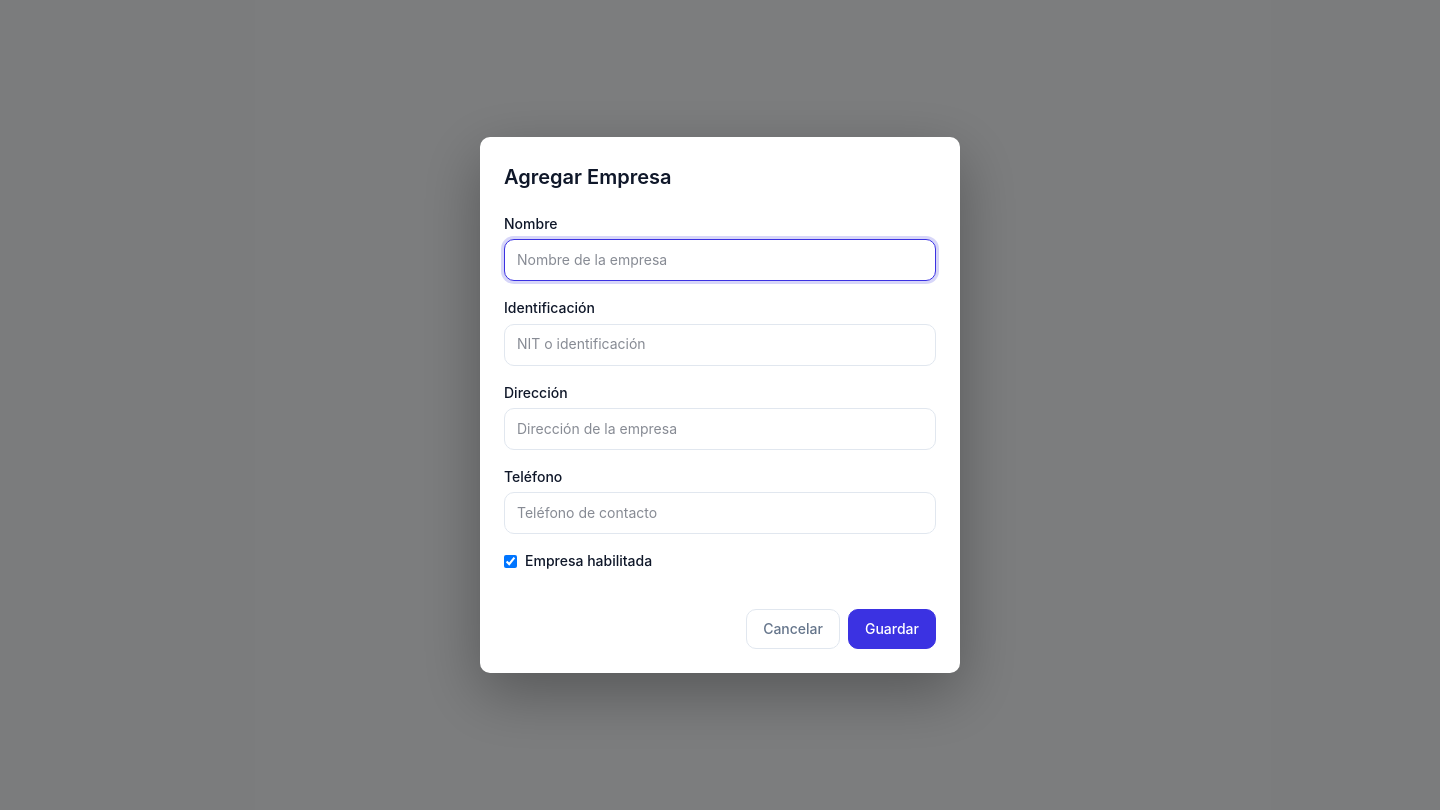
Test case: EmpresaFormModal › Estado de envío › Save button shows "Guardando..." and is disabled during submit
Type "Empresa Valid" into the field labelled "Nombre" at (720, 260), box [504,239,936,281]
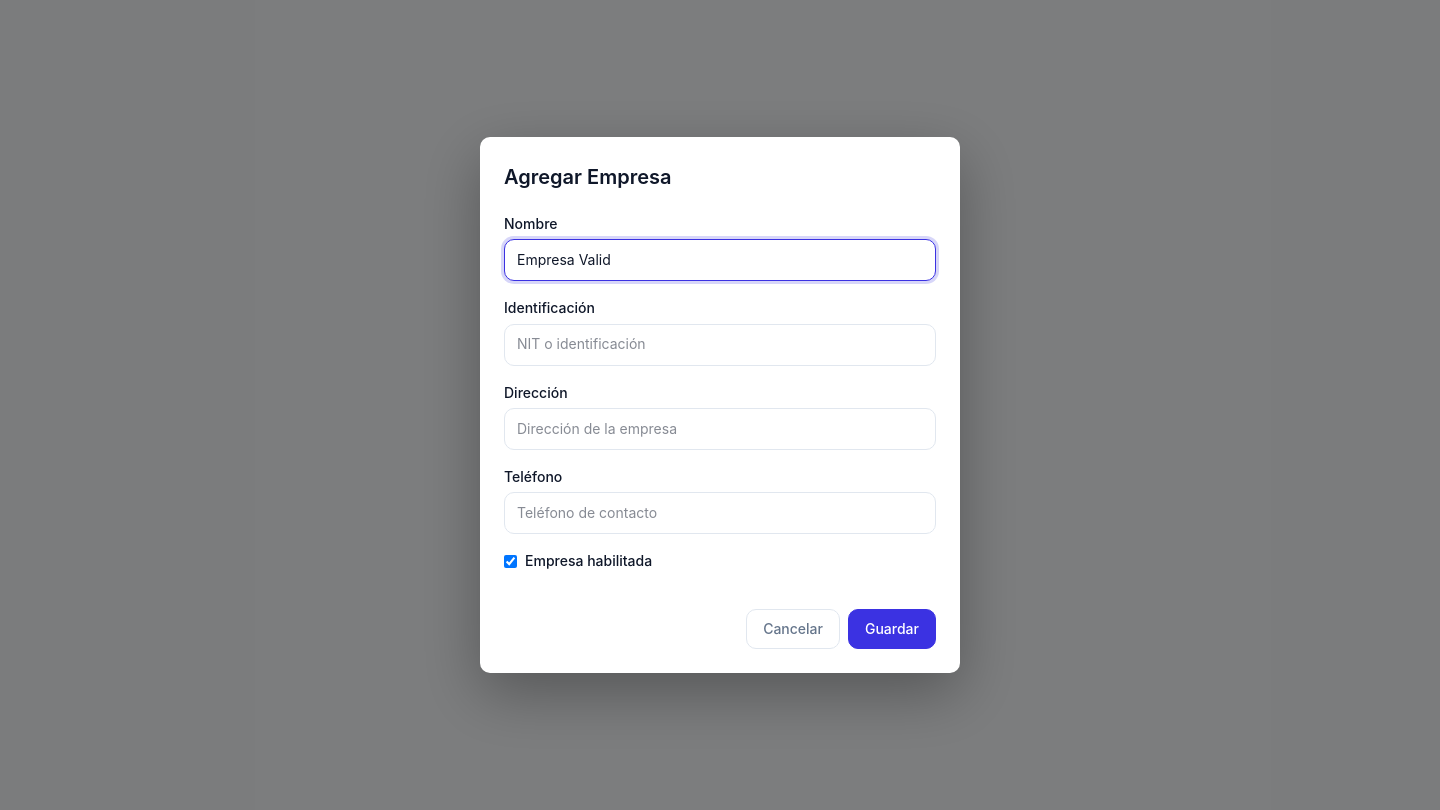
Type "NIT-123456" into the field labelled "Identificación" at (720, 345), box [504,324,936,366]
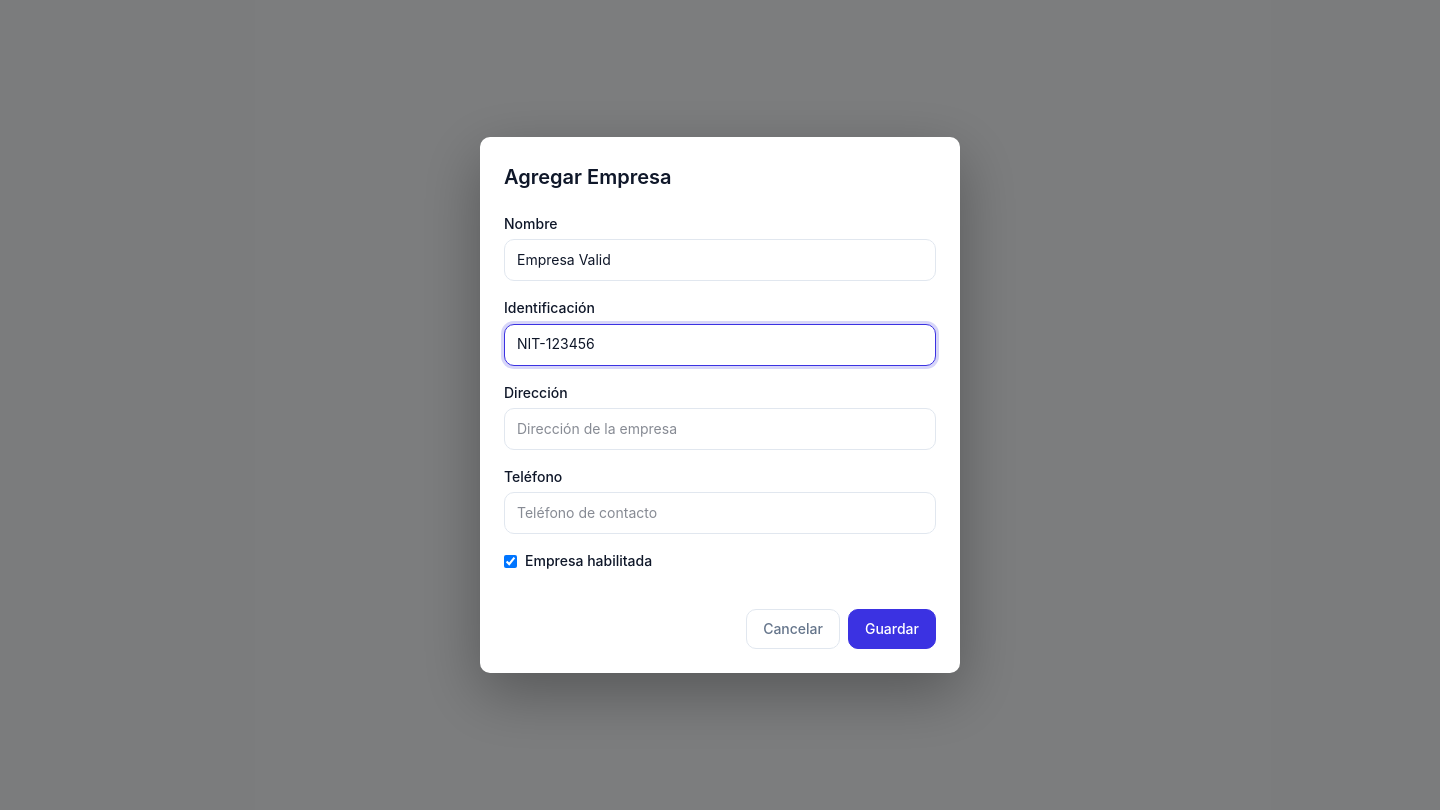
Type "Dirección Válida 123" into the field labelled "Dirección" at (720, 429), box [504,408,936,450]
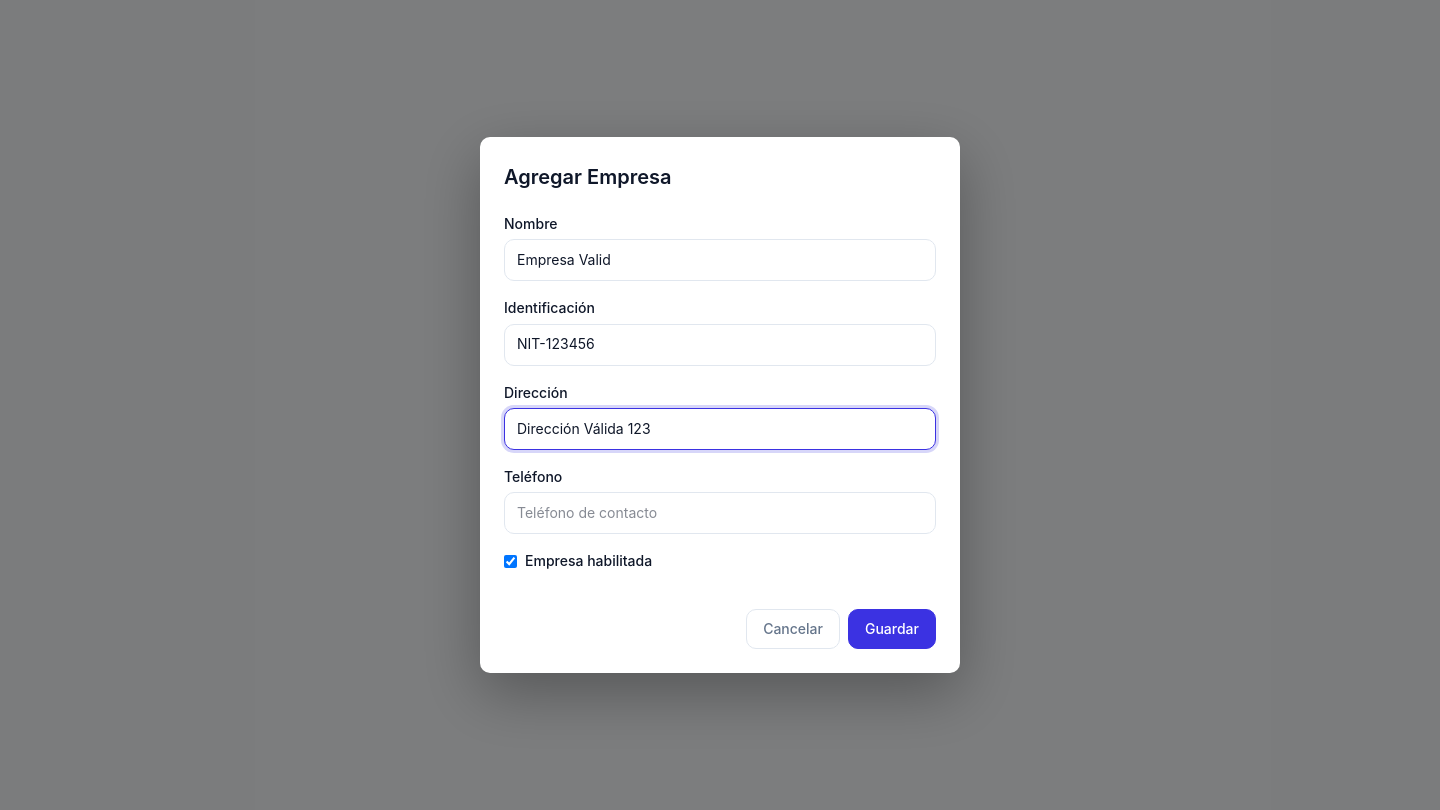
Type "1234567" into the field labelled "Teléfono" at (720, 513), box [504,492,936,534]
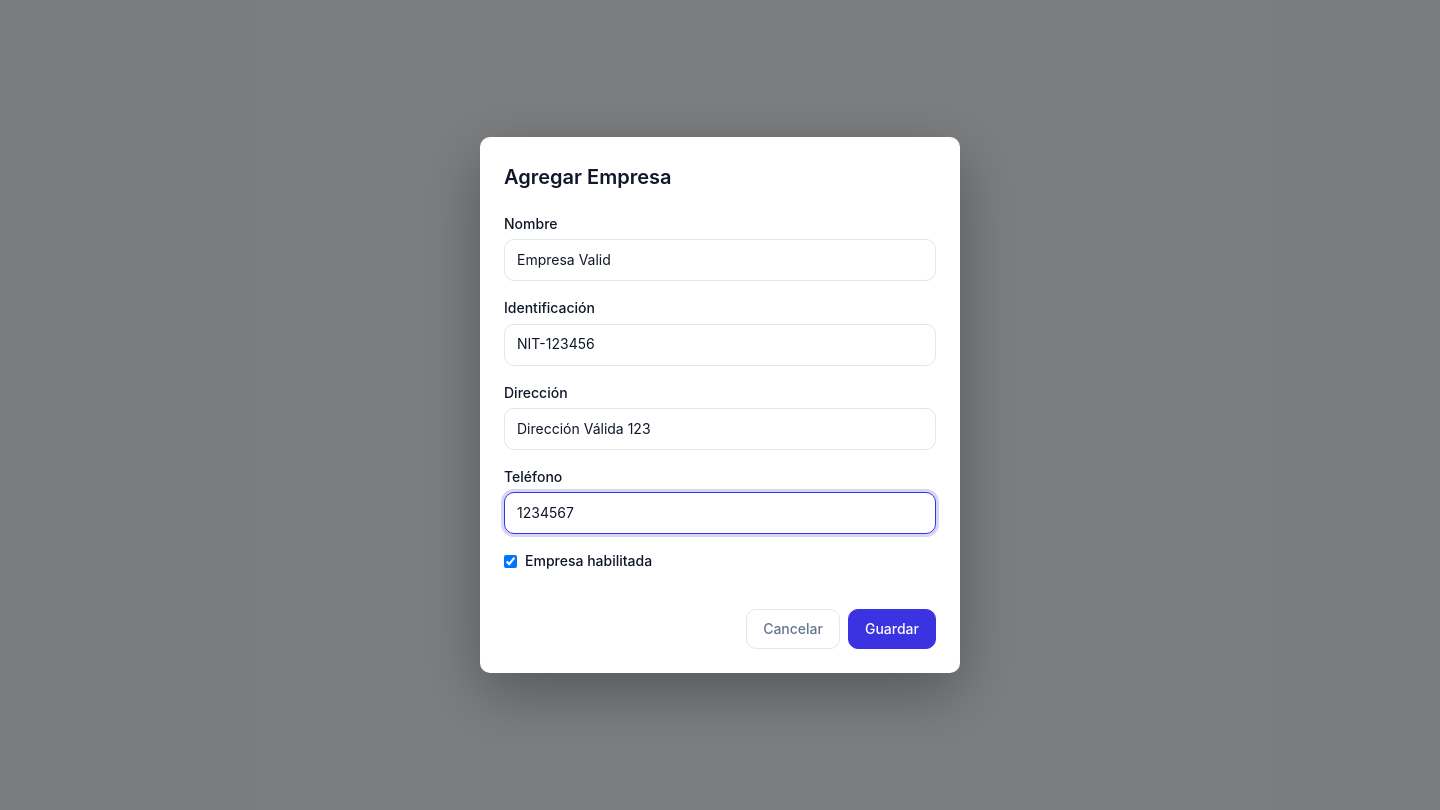
Click the button "Guardar" at (892, 629), box [848,609,936,649]
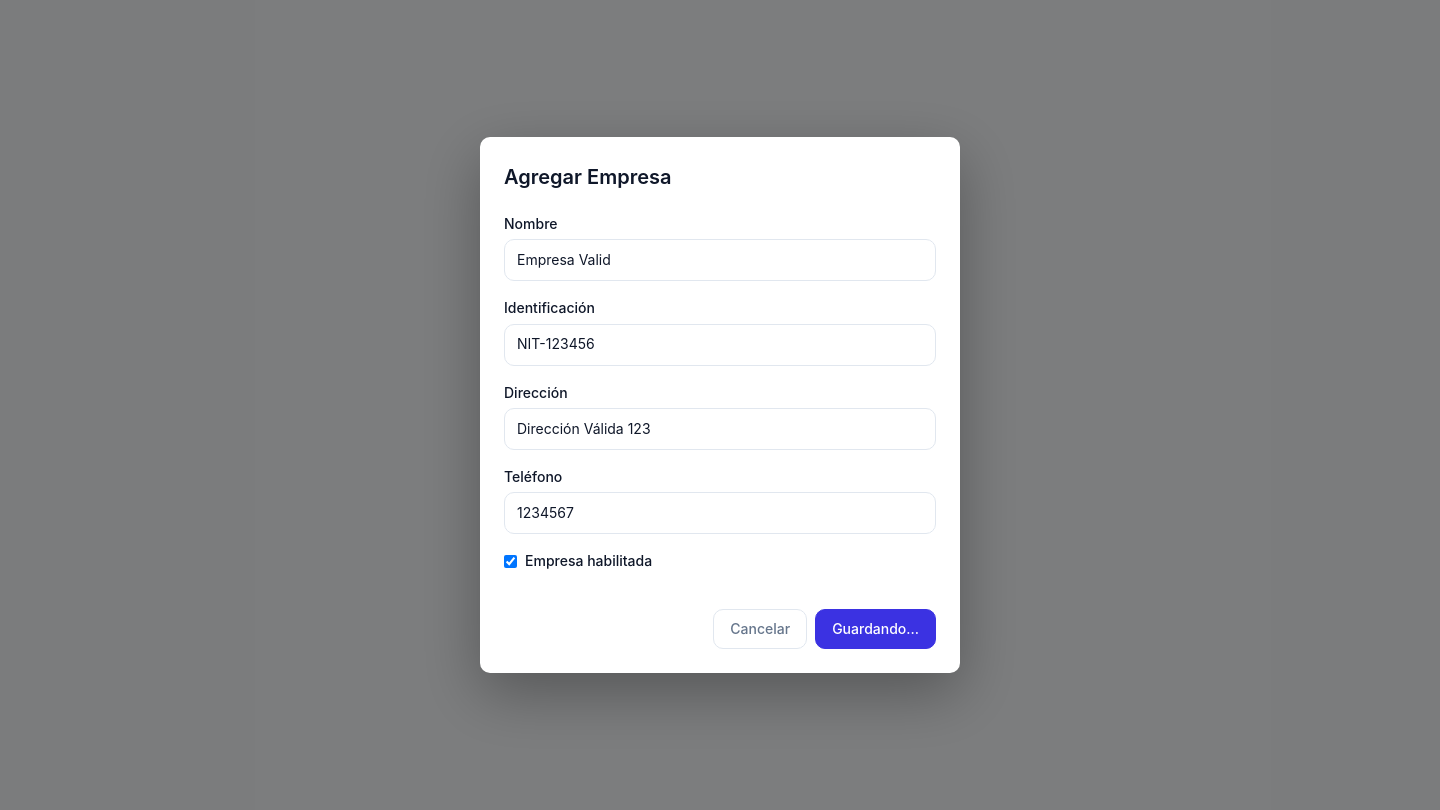
Result: the button "Guardando..." is disabled at [815,609,936,649]
